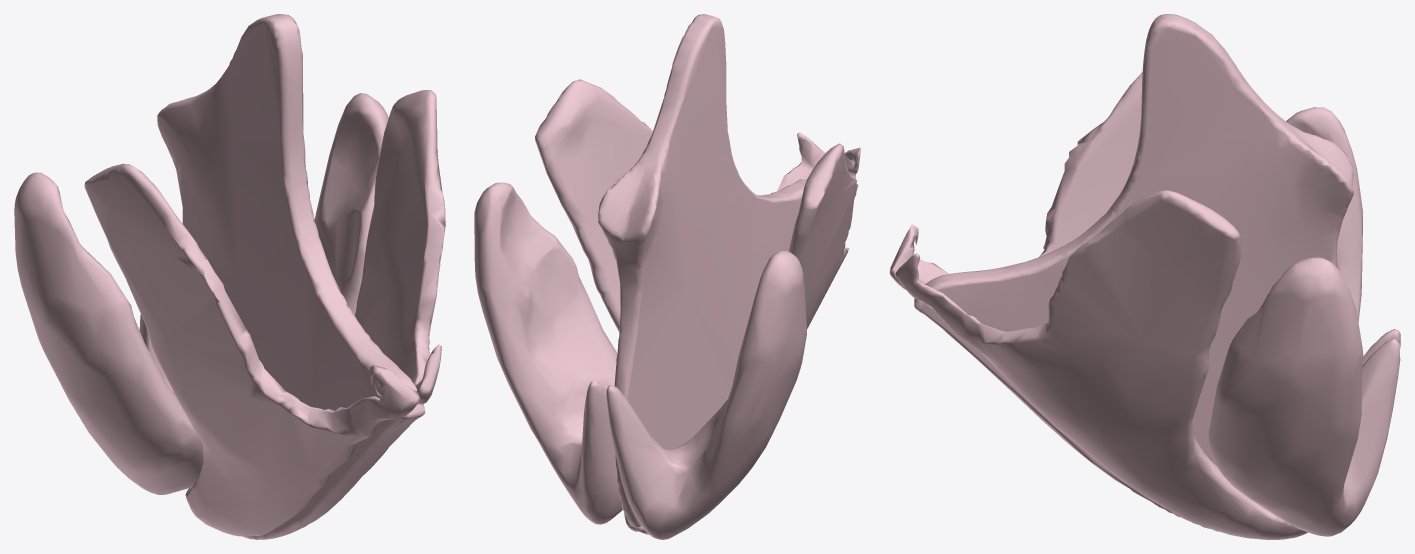
Rendered from face-organes.glb.
3 views of the same model, side by side, from view 1: azimuth 30°, elevation 25°; view 2: azimuth 150°, elevation 25°; view 3: azimuth 270°, elevation 25° (orthographic). The views are drawn at different scales.
Visible parts, largest first — view 1: cartilages_du_nez_ensemble; view 2: cartilages_du_nez_ensemble; view 3: cartilages_du_nez_ensemble.
Boxes of the visible parts, x1,y1,x2,y2 form: cartilages_du_nez_ensemble: (14, 14, 445, 539); cartilages_du_nez_ensemble: (474, 14, 860, 539); cartilages_du_nez_ensemble: (889, 14, 1400, 539).
Size of the model in its own units: 28.75 by 41.03 by 36.64.
